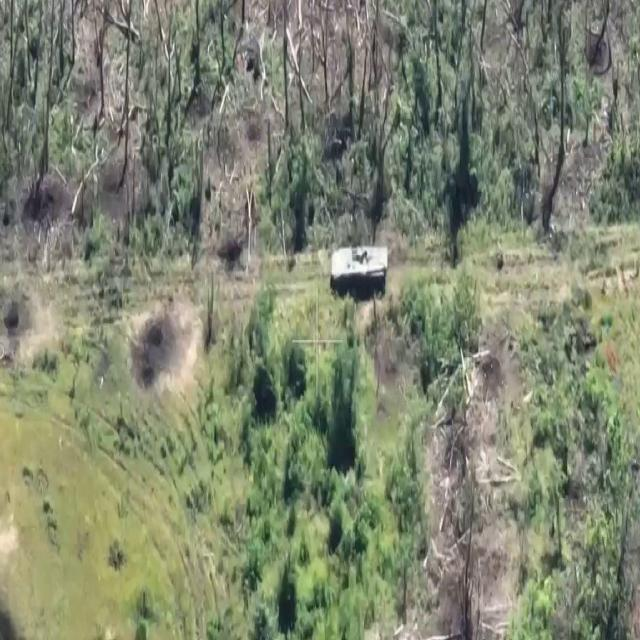AIFV: (330, 245, 389, 296)
